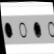correct: (31, 18, 43, 41), (2, 19, 14, 41)
no answer: (17, 19, 28, 40), (45, 17, 54, 39)
